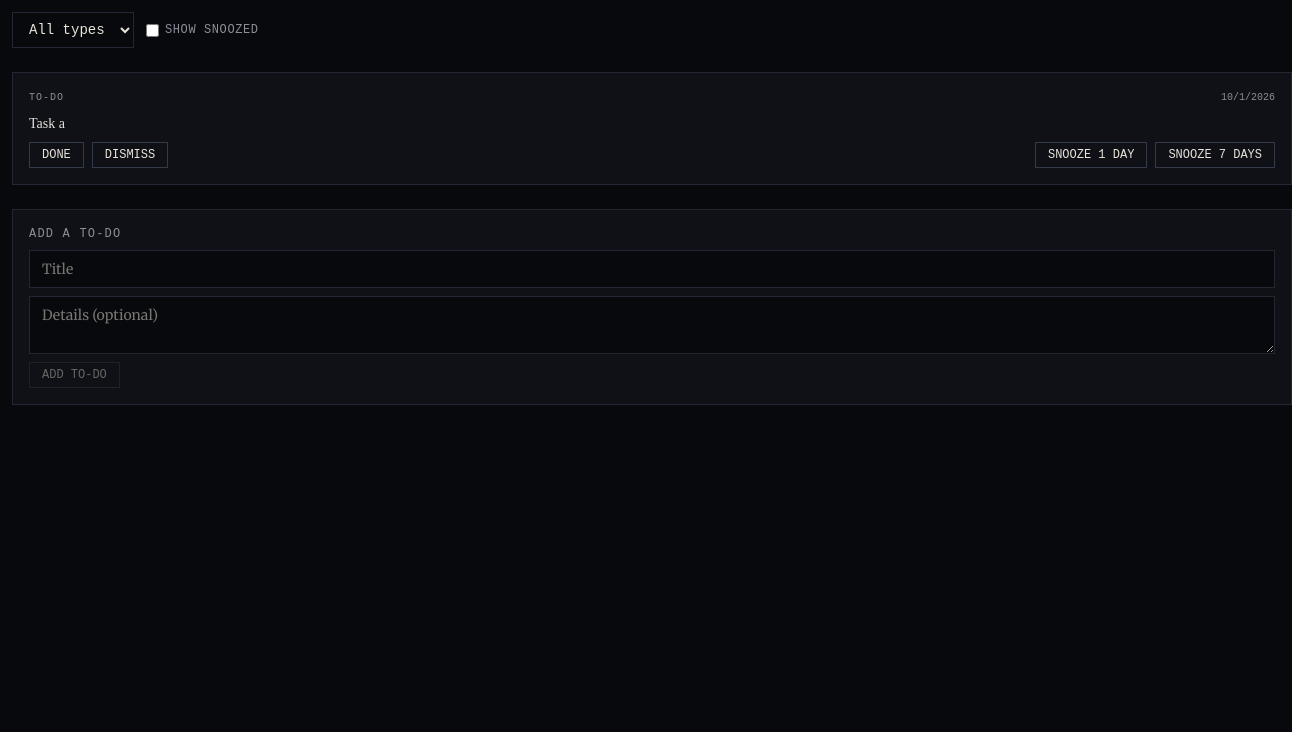
snoozed tasks are hidden until "show snoozed" is ticked
This screenshot has width=1292, height=732.
Expected: the text "Task a" is shown, 29,116 -> 65,131
Expected: the text "Task b" is not shown
Click the checkbox labelled "Show snoozed": x=152, y=30 146,24 -> 159,36
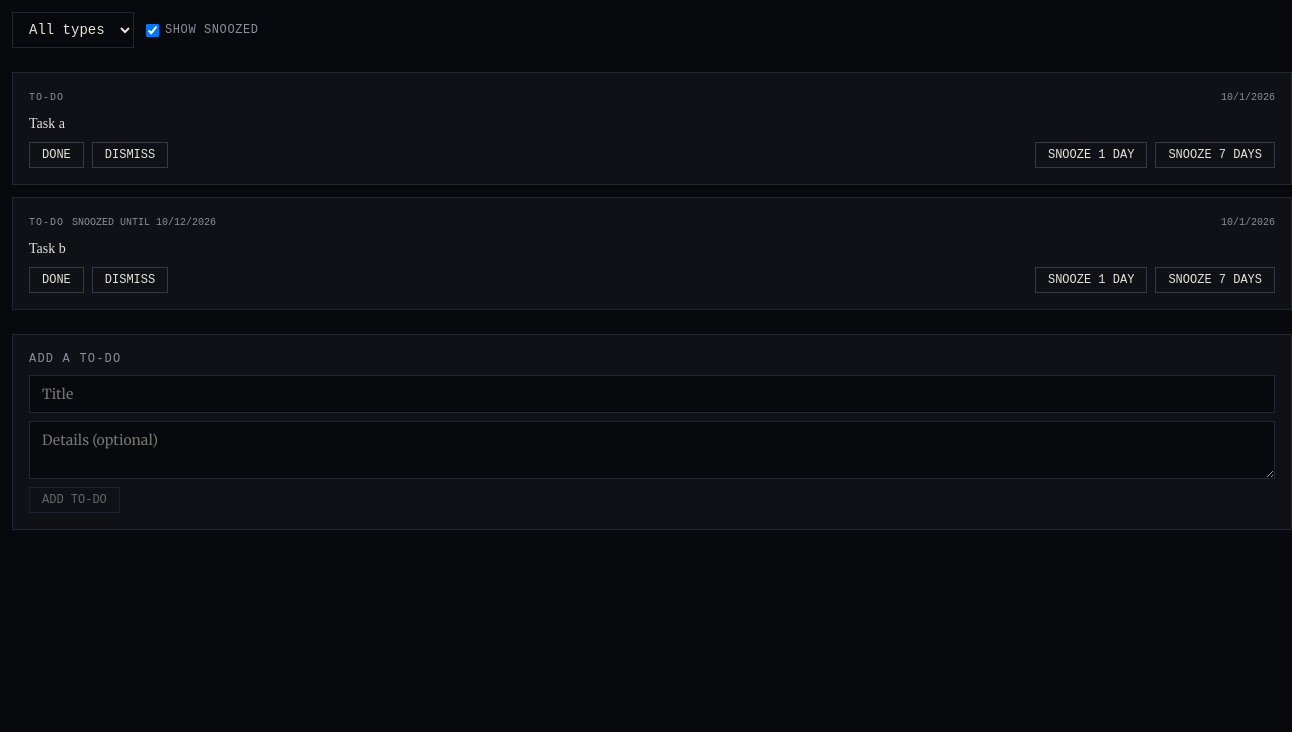
Expected: the text "Task b" is shown, 29,241 -> 66,256
